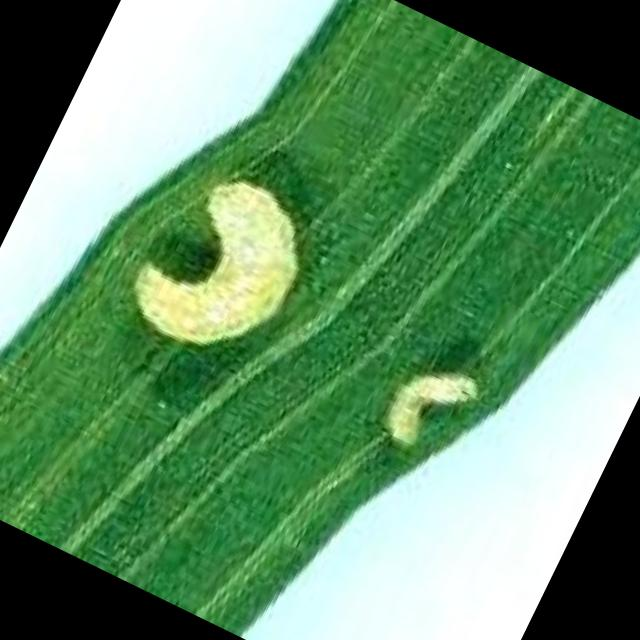whorl-maggot: (108, 146, 340, 387), (356, 334, 493, 488)
